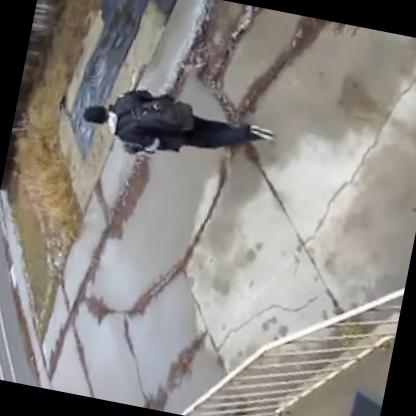Human Body: (73, 65, 286, 190)
